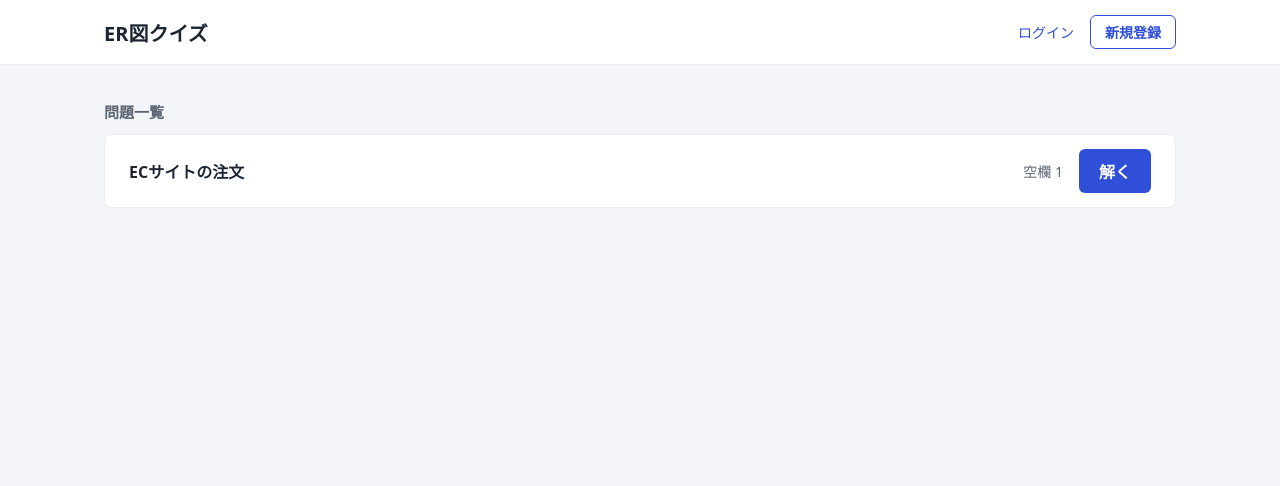
Test: LoginPage › 未ログインならヘッダーに [ログイン] を出し、ログインすると元の画面に戻ってログインIDを出す
Expected: the text "ECサイトの注文" is shown, [129, 161, 244, 183]
Step 1. Click the button "ログイン" → (1046, 32), box [1018, 22, 1074, 42]
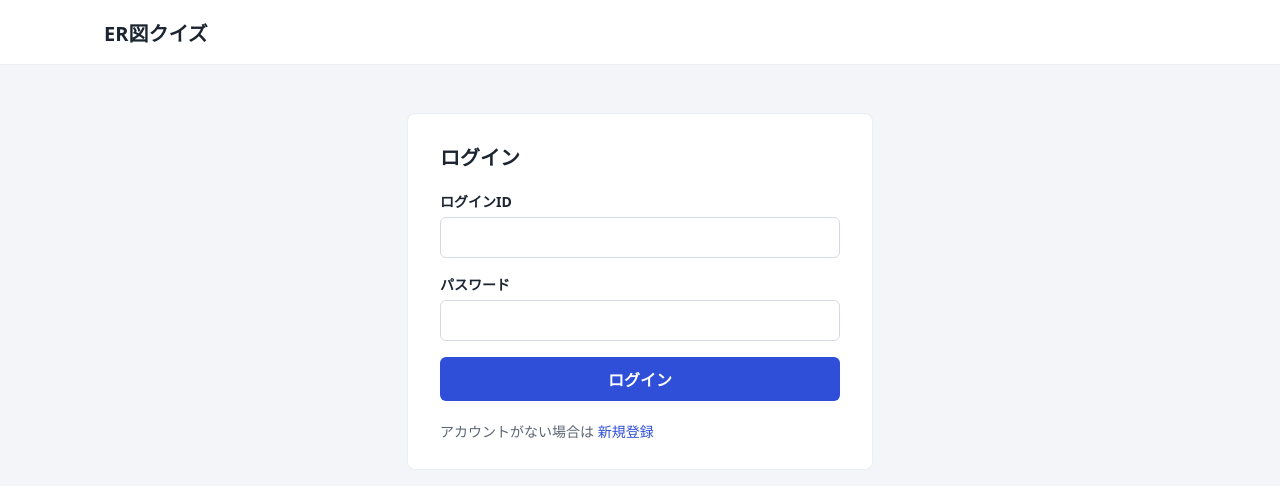
Step 2. Type "taro" into the field labelled "ログインID" → (640, 238), box [440, 217, 840, 258]
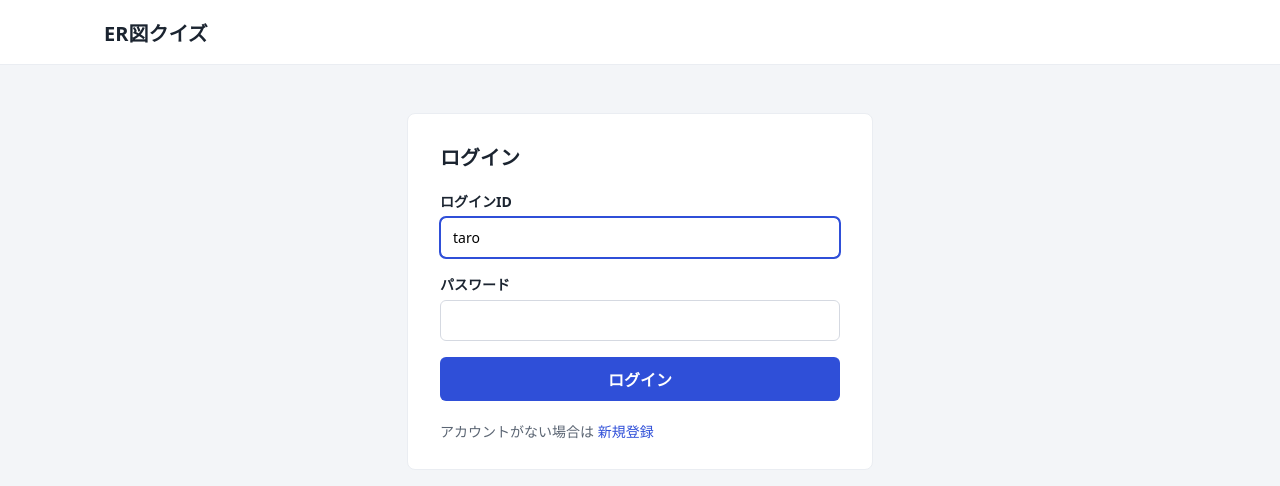
Step 3. Type "password" into the password field labelled "パスワード" → (640, 320), box [440, 300, 840, 341]
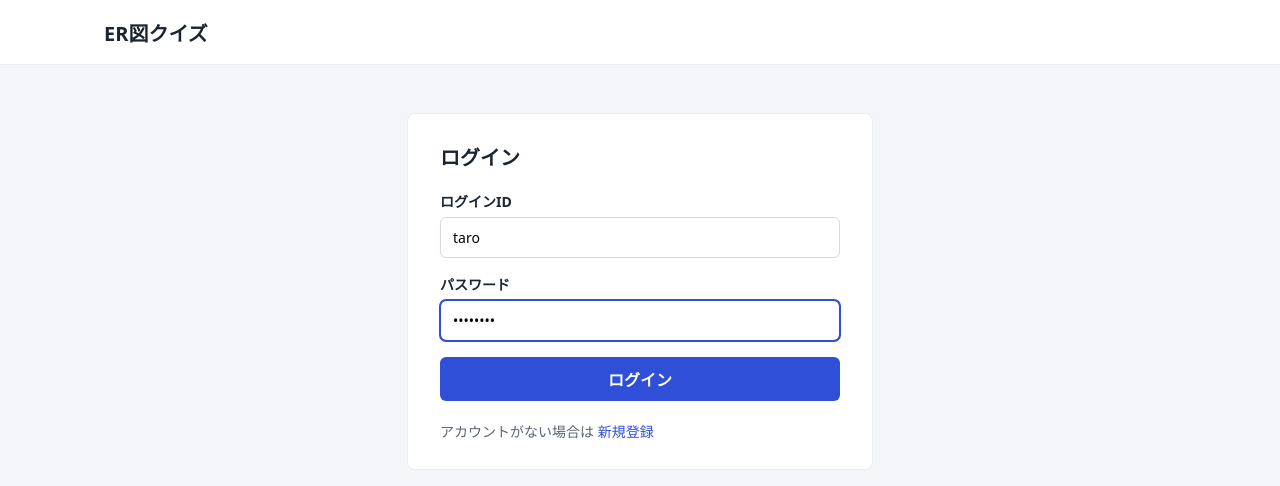
Step 4. Click the button "ログイン" → (640, 379), box [440, 357, 840, 401]
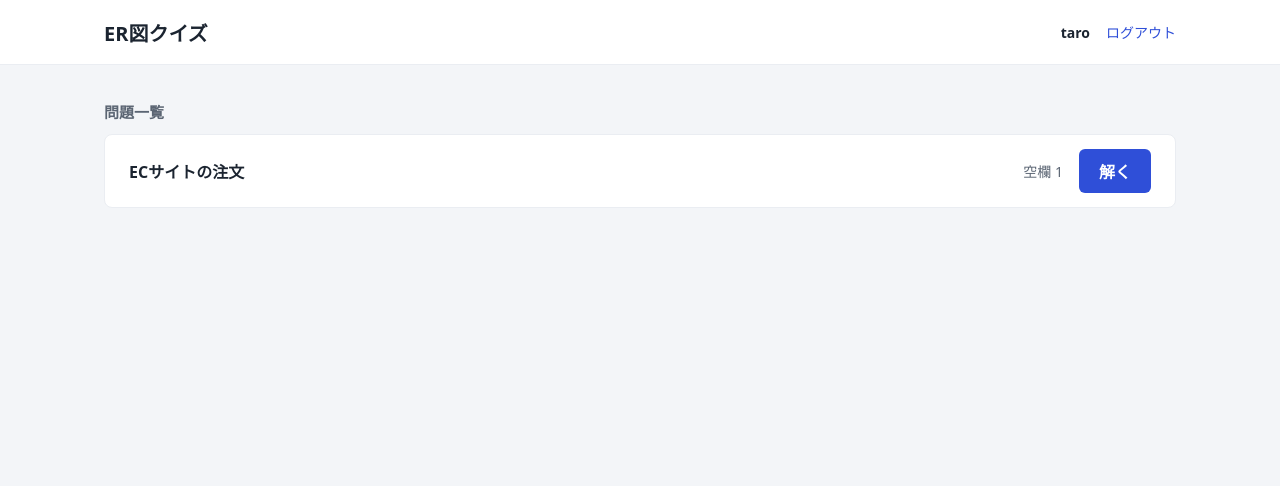
Expected: the text "ECサイトの注文" is shown, [129, 161, 244, 183]
Expected: the text "taro" is shown, [1061, 22, 1090, 42]
Expected: the heading "ログイン" is gone
